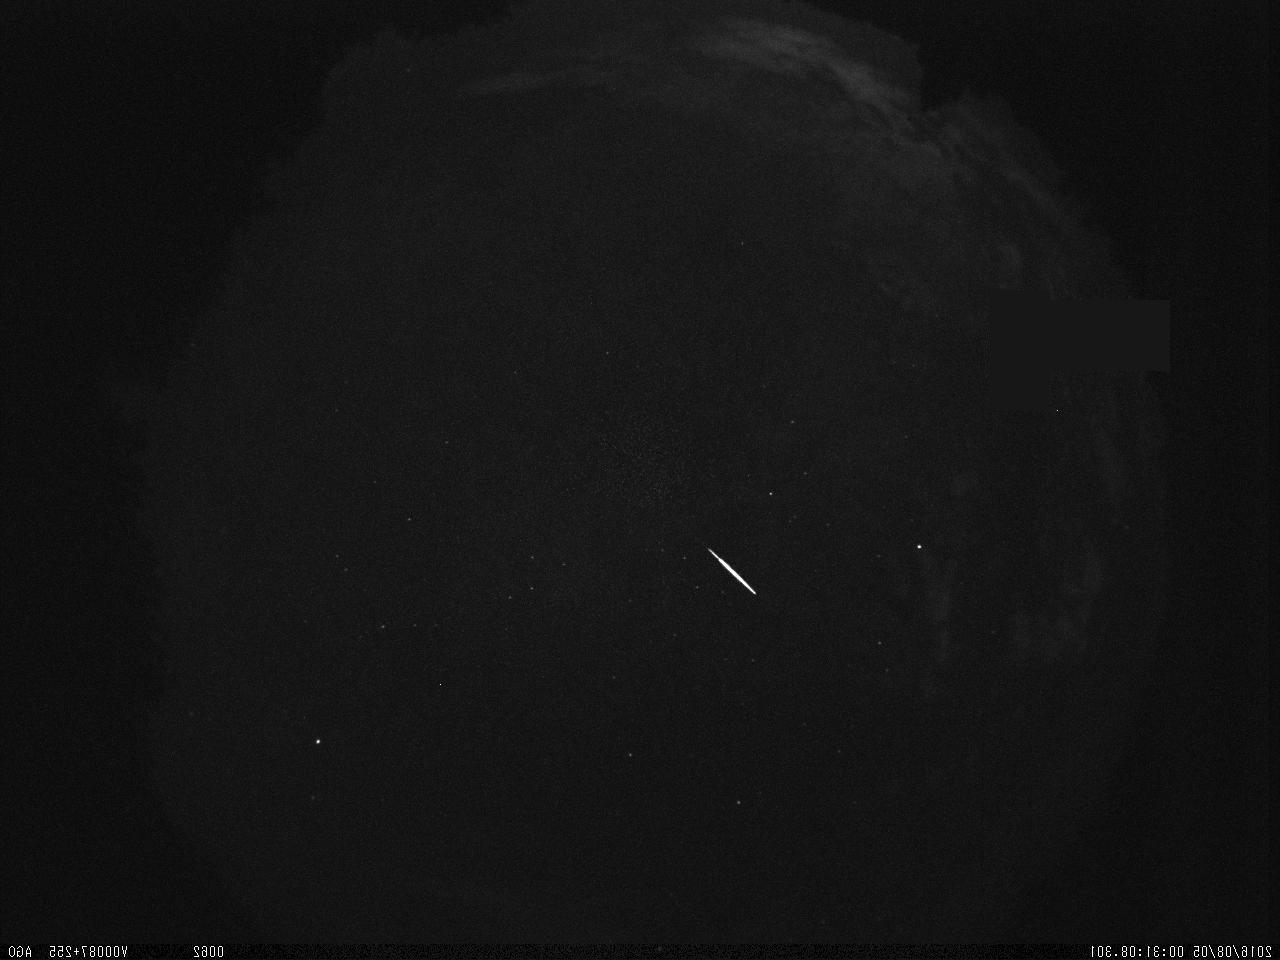meteor: (698, 541, 760, 604)
